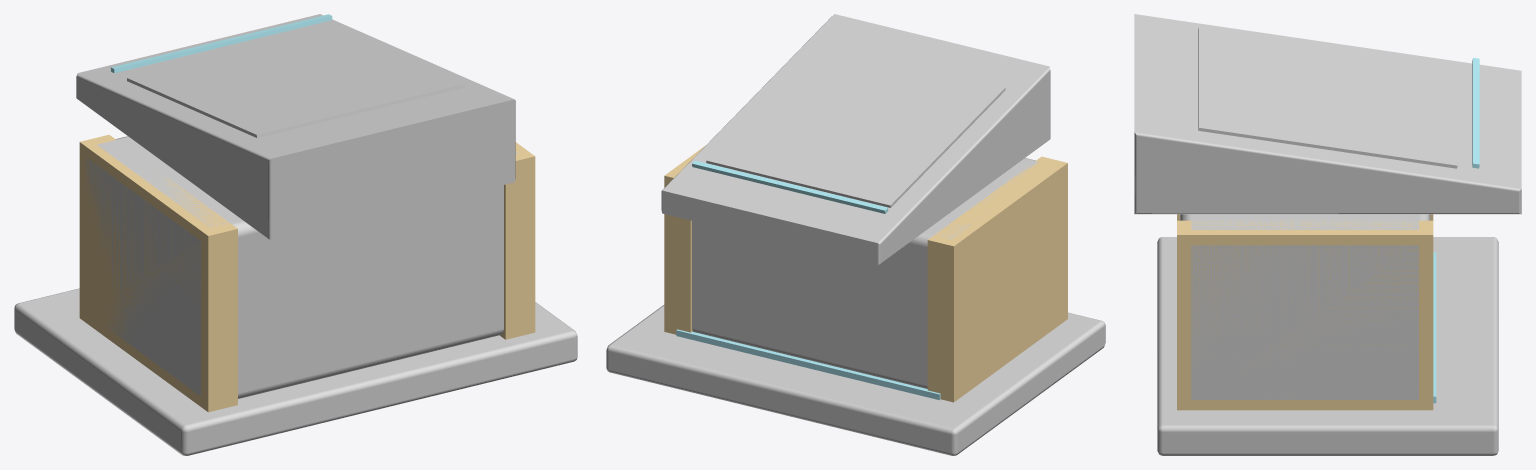
Rendered from ExpeditionConsole.glb.
3 renders of one model, left to right at view 1: azimuth 30°, elevation 25°; view 2: azimuth 150°, elevation 25°; view 3: azimuth 270°, elevation 25°, orthographic. The views are drawn at different scales.
Parts seen in each view (by area): view 1: Body, Trim, Glow; view 2: Body, Trim, Glow; view 3: Body, Trim, Glow.
Boxes of the visible parts, x1,y1,x2,y2 form: Body: [14, 14, 577, 455]; Trim: [79, 134, 535, 412]; Glow: [110, 14, 332, 73]; Body: [606, 14, 1105, 455]; Trim: [664, 145, 1067, 402]; Glow: [676, 160, 940, 400]; Body: [1134, 14, 1521, 455]; Trim: [1177, 214, 1433, 410]; Glow: [1433, 57, 1479, 403].
Bounding box in the file's own units: 8 × 5.6 × 6.8.
